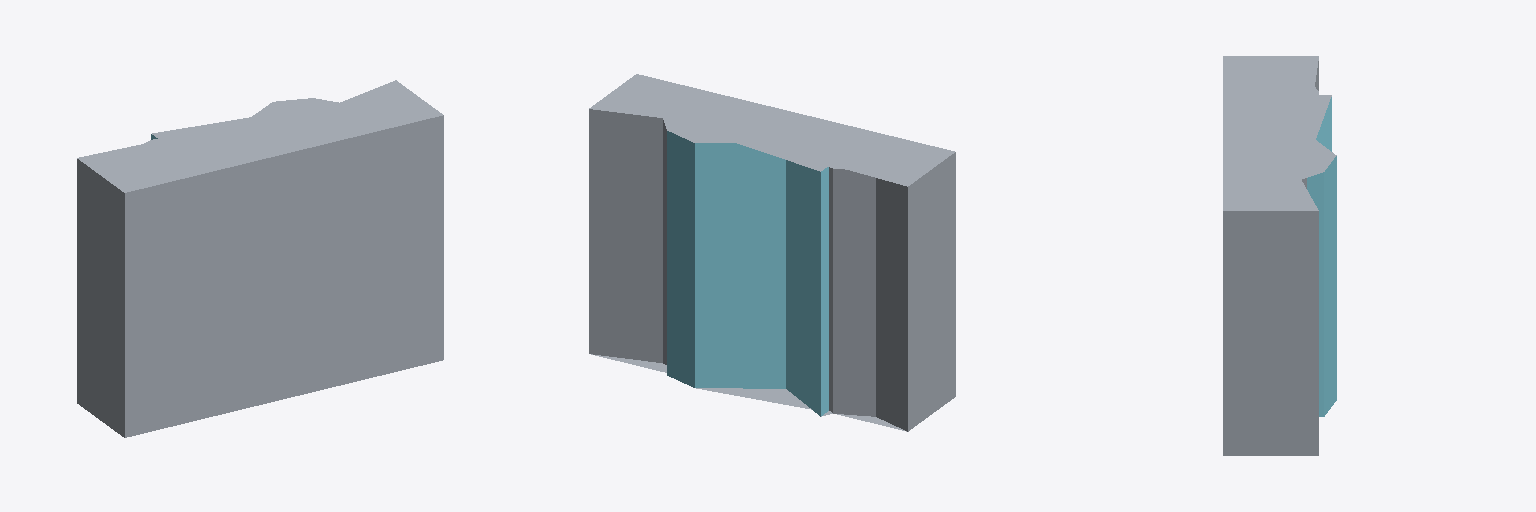
The picture shows the model from 3 angles: view 1: azimuth 30°, elevation 25°; view 2: azimuth 150°, elevation 25°; view 3: azimuth 270°, elevation 25°; orthographic projection.
Visible parts, largest first — view 1: Mesh1 Grey_Waterfall Model; view 2: Mesh1 Grey_Waterfall Model; view 3: Mesh1 Grey_Waterfall Model.
Part boxes in pixels (bbox=[...]): Mesh1 Grey_Waterfall Model: bbox=[77, 80, 443, 437]; Mesh1 Grey_Waterfall Model: bbox=[589, 74, 955, 431]; Mesh1 Grey_Waterfall Model: bbox=[1223, 56, 1336, 455].
Bounding box in the file's own units: 3 × 2.2 × 0.92.
1 materials, 1 textured.